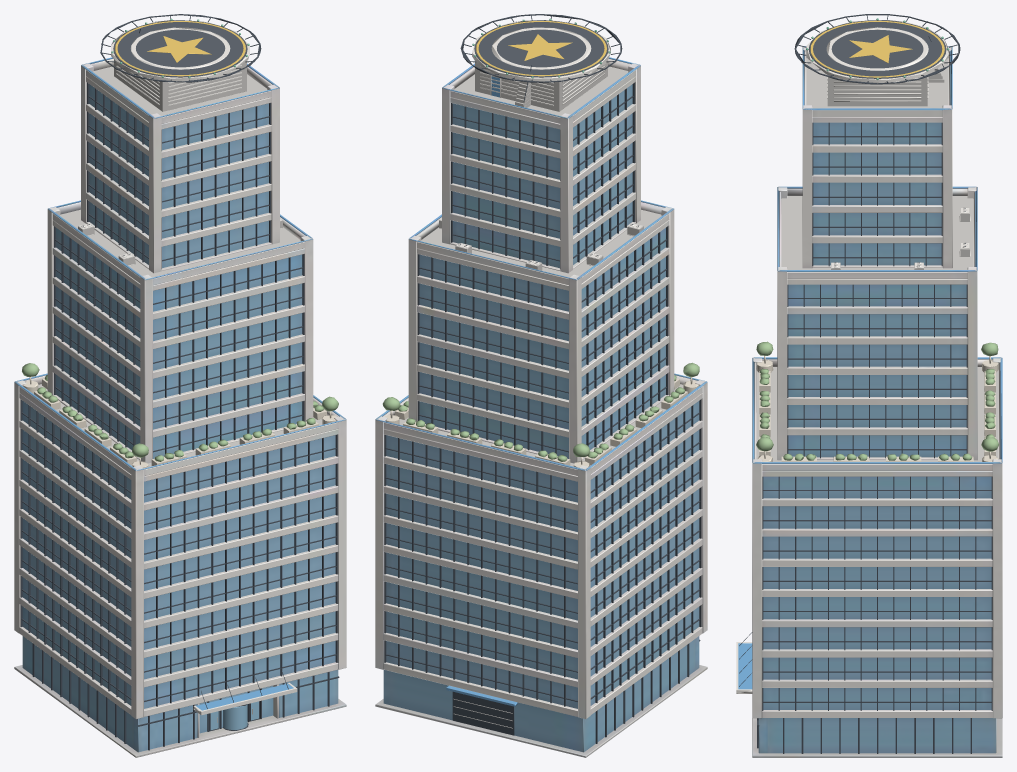
Rendered from office-tower.glb.
3 views of the same model, side by side, from view 1: azimuth 30°, elevation 25°; view 2: azimuth 150°, elevation 25°; view 3: azimuth 270°, elevation 25° (orthographic). The views are drawn at different scales.
Visible parts, largest first — view 1: office-tower_body, office-tower_detail_mullions, office-tower_detail_roof_lobby, office-tower_detail_plants; view 2: office-tower_body, office-tower_detail_mullions, office-tower_detail_roof_lobby, office-tower_detail_plants; view 3: office-tower_body, office-tower_detail_mullions, office-tower_detail_roof_lobby, office-tower_detail_plants.
Part boxes in pixels (box(x1,y1,x2,y2)): office-tower_body: box(14, 57, 346, 757); office-tower_detail_mullions: box(20, 14, 339, 750); office-tower_detail_roof_lobby: box(23, 18, 336, 710); office-tower_detail_plants: box(22, 363, 338, 461); office-tower_body: box(375, 57, 707, 757); office-tower_detail_mullions: box(384, 14, 701, 743); office-tower_detail_roof_lobby: box(384, 19, 699, 706); office-tower_detail_plants: box(382, 362, 699, 461); office-tower_body: box(752, 46, 1002, 757); office-tower_detail_mullions: box(736, 14, 992, 753); office-tower_detail_roof_lobby: box(738, 18, 998, 689); office-tower_detail_plants: box(756, 341, 998, 460).
Size of the model in its own units: 24 by 70.01 by 25.55.
Materials: 11 (1 with a texture image).
